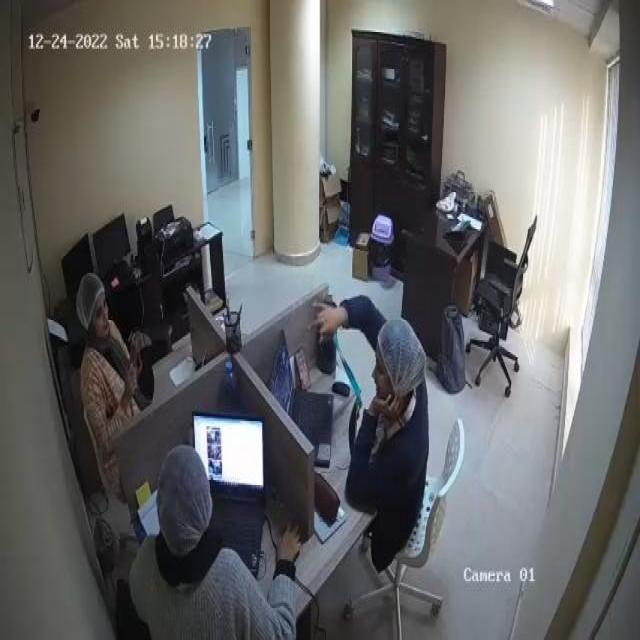hairnet: (159, 440, 209, 529), (378, 323, 428, 396), (80, 277, 108, 321)
